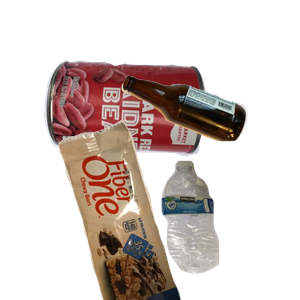glass: (119, 73, 300, 207)
metal: (41, 58, 240, 207)
plastic: (159, 158, 300, 300)
trash: (56, 120, 229, 300)
